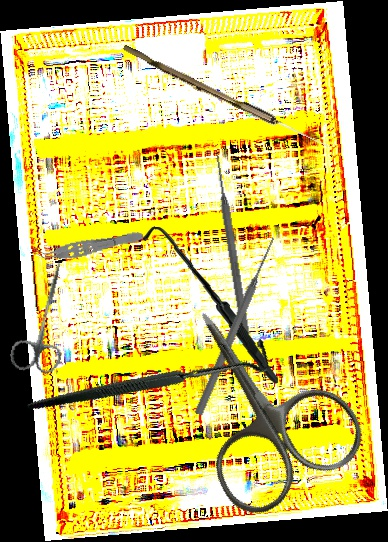Hook Surgical: (25, 279, 277, 473), (135, 225, 286, 385)
Iris Scissors: (139, 272, 375, 526), (7, 253, 83, 379)
Pusher: (192, 235, 280, 417), (211, 152, 252, 336)
Surgical Spoon: (120, 44, 331, 151)
Tissue Forceps: (33, 226, 145, 266)
